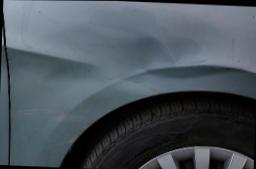Fender: (30, 16, 254, 150)
